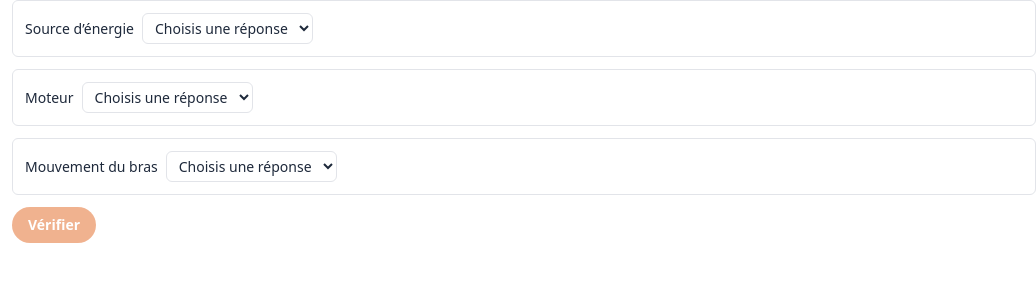
Test: SequencingActivity (5E-06) › félicite un ordre entièrement correct
Select "1" in the dropdown labelled "Source d’énergie": (228, 28) top-left (142, 13), bottom-right (313, 44)
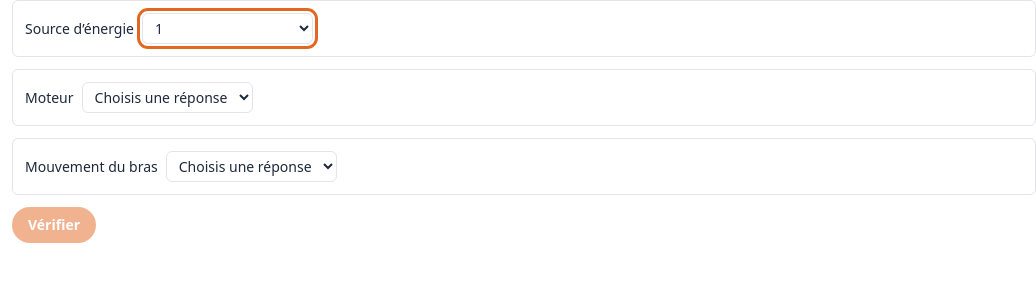
Select "2" in the dropdown labelled "Moteur": (167, 98) top-left (82, 82), bottom-right (253, 113)
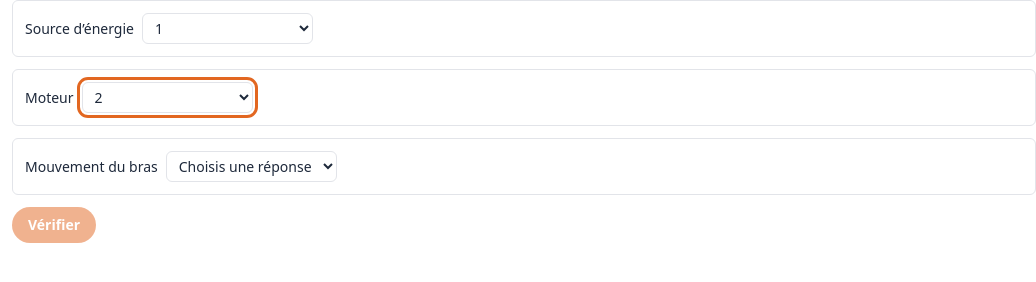
Select "3" in the dropdown labelled "Mouvement du bras": (251, 166) top-left (166, 151), bottom-right (337, 182)
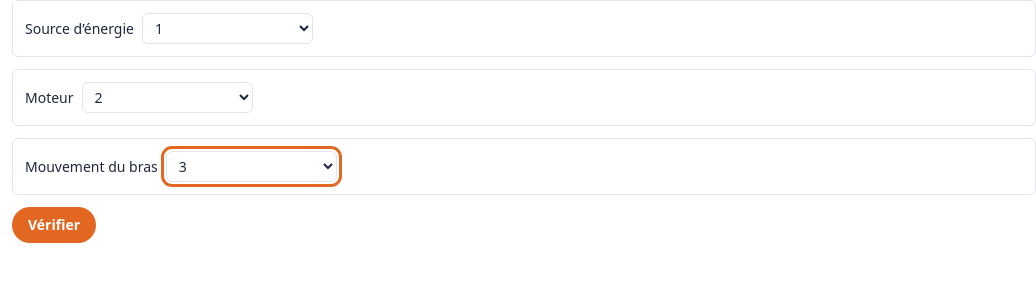
Click the button "Vérifier": (54, 225) top-left (12, 207), bottom-right (96, 243)
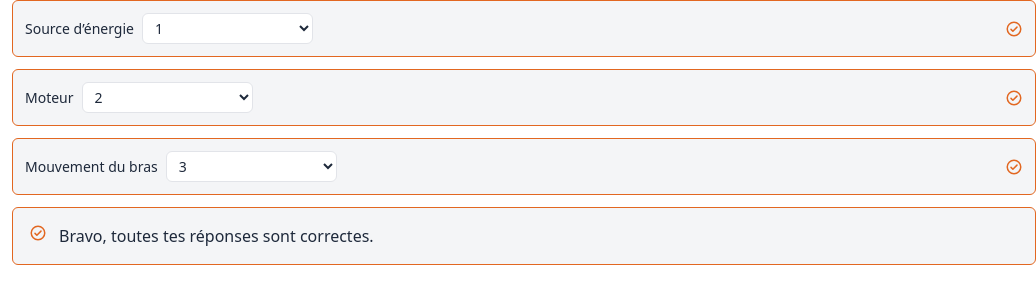
Now the text "Bravo, toutes tes réponses sont correctes." is shown, box top-left (59, 225), bottom-right (374, 247)
